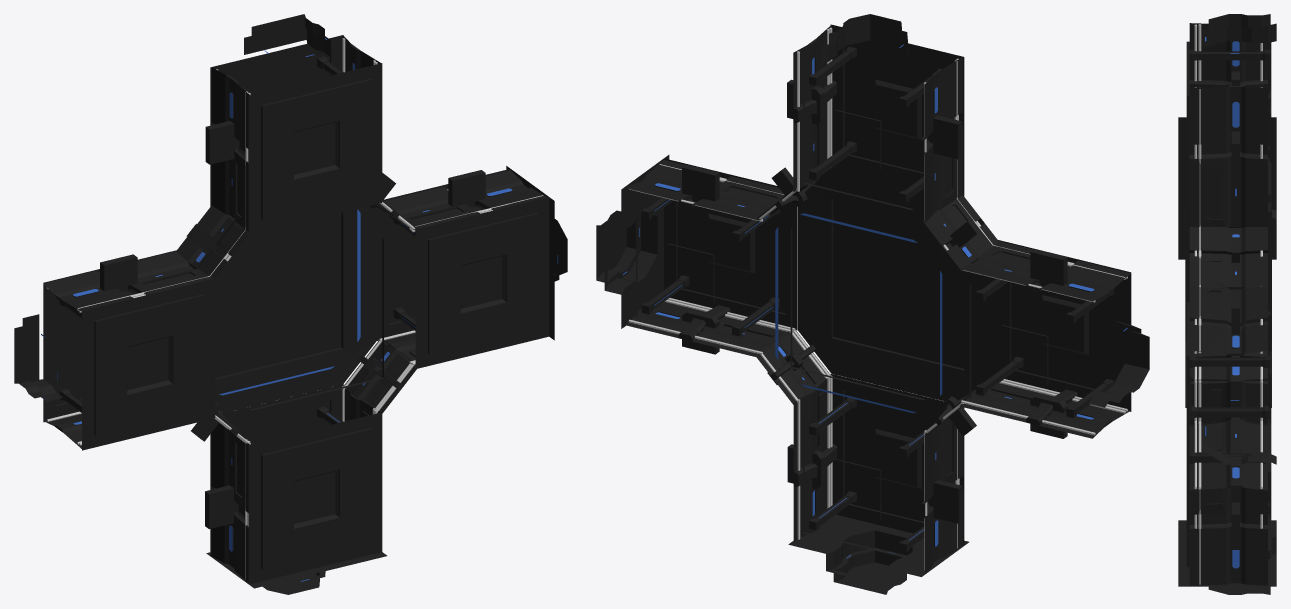
Rendered from scifi-01.obj.
The picture shows the model from 3 angles, left to right: view 1: azimuth 30°, elevation 25°; view 2: azimuth 150°, elevation 25°; view 3: azimuth 270°, elevation 25°; orthographic projection.
Parts seen in each view (by area): view 1: Plane.004_Plane.005_DefaultMaterial, Plane.001_Plane.002_DefaultMaterial, Plane.002_Plane.003_DefaultMaterial, Plane_Plane_DefaultMaterial, Plane.003_Plane.004_DefaultMaterial, Cube_Cube_DefaultMaterial, Cylinder_Cylinder_DefaultMaterial, HorzPipe2_Cylinder.006_None, Plane.001_Plane.002_EmissiveMaterial; view 2: Plane.004_Plane.005_DefaultMaterial, Plane.002_Plane.003_DefaultMaterial, Plane.005_Plane.006_DefaultMaterial, Plane.003_Plane.004_DefaultMaterial, Cube_Cube_DefaultMaterial, Cylinder_Cylinder_DefaultMaterial, HorzPip3_Cylinder.005_None, Plane_Plane_DefaultMaterial, HorzPipe2_Cylinder.006_None, Plane.001_Plane.002_EmissiveMaterial, HorzPipe1_Cylinder.004_None, Plane.002_Plane.003_EmissiveMaterial (+1 smaller); view 3: Plane.002_Plane.003_DefaultMaterial, Plane.003_Plane.004_DefaultMaterial, Cylinder_Cylinder_DefaultMaterial, Plane.004_Plane.005_DefaultMaterial, Cube_Cube_DefaultMaterial, Plane_Plane_DefaultMaterial, HorzPipe2_Cylinder.006_None, Plane.002_Plane.003_EmissiveMaterial, Plane.005_Plane.006_DefaultMaterial, HorzPipe1_Cylinder.004_None, HorzPip3_Cylinder.005_None, Plane.001_Plane.002_DefaultMaterial.
Boxes of the visible parts, x1,y1,x2,y2 form: Plane.004_Plane.005_DefaultMaterial: (82, 63, 549, 584); Plane.001_Plane.002_DefaultMaterial: (215, 207, 376, 412); Plane.002_Plane.003_DefaultMaterial: (44, 35, 546, 582); Plane_Plane_DefaultMaterial: (43, 35, 510, 556); Plane.003_Plane.004_DefaultMaterial: (14, 14, 567, 594); Cube_Cube_DefaultMaterial: (100, 121, 485, 529); Cylinder_Cylinder_DefaultMaterial: (59, 56, 415, 444); HorzPipe2_Cylinder.006_None: (77, 60, 543, 579); Plane.001_Plane.002_EmissiveMaterial: (219, 209, 360, 395); Plane.004_Plane.005_DefaultMaterial: (664, 24, 1131, 545); Plane.002_Plane.003_DefaultMaterial: (626, 25, 1130, 573); Plane.005_Plane.006_DefaultMaterial: (797, 165, 997, 401); Plane.003_Plane.004_DefaultMaterial: (596, 14, 1149, 594); Cube_Cube_DefaultMaterial: (682, 79, 1067, 523); Cylinder_Cylinder_DefaultMaterial: (641, 46, 1114, 552); HorzPip3_Cylinder.005_None: (628, 51, 1095, 570); Plane_Plane_DefaultMaterial: (636, 68, 1079, 559); HorzPipe2_Cylinder.006_None: (659, 29, 1125, 548); Plane.001_Plane.002_EmissiveMaterial: (775, 213, 942, 413); HorzPipe1_Cylinder.004_None: (667, 27, 1127, 506); Plane.002_Plane.003_EmissiveMaterial: (655, 58, 1094, 546); Plane.002_Plane.003_DefaultMaterial: (1189, 23, 1267, 585); Plane.003_Plane.004_DefaultMaterial: (1178, 14, 1276, 594); Cylinder_Cylinder_DefaultMaterial: (1189, 50, 1270, 558); Plane.004_Plane.005_DefaultMaterial: (1186, 41, 1191, 567); Cube_Cube_DefaultMaterial: (1231, 71, 1239, 549); Plane_Plane_DefaultMaterial: (1268, 42, 1271, 567); HorzPipe2_Cylinder.006_None: (1198, 24, 1201, 584); Plane.002_Plane.003_EmissiveMaterial: (1232, 41, 1239, 568); Plane.005_Plane.006_DefaultMaterial: (1185, 201, 1189, 407); HorzPipe1_Cylinder.004_None: (1194, 24, 1196, 528); HorzPip3_Cylinder.005_None: (1260, 43, 1262, 528); Plane.001_Plane.002_DefaultMaterial: (1268, 201, 1271, 407).
Bounding box in the file's own units: 31.34 × 31.34 × 5.
